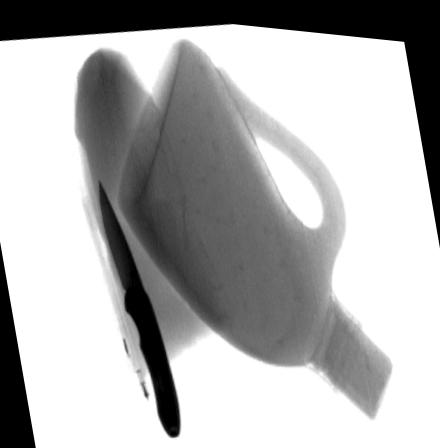Knife: (98, 171, 181, 434)
